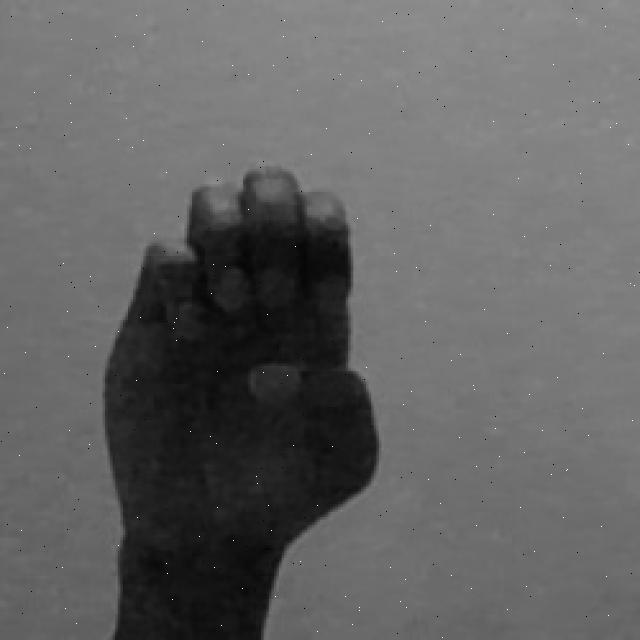E: (106, 163, 382, 640)
